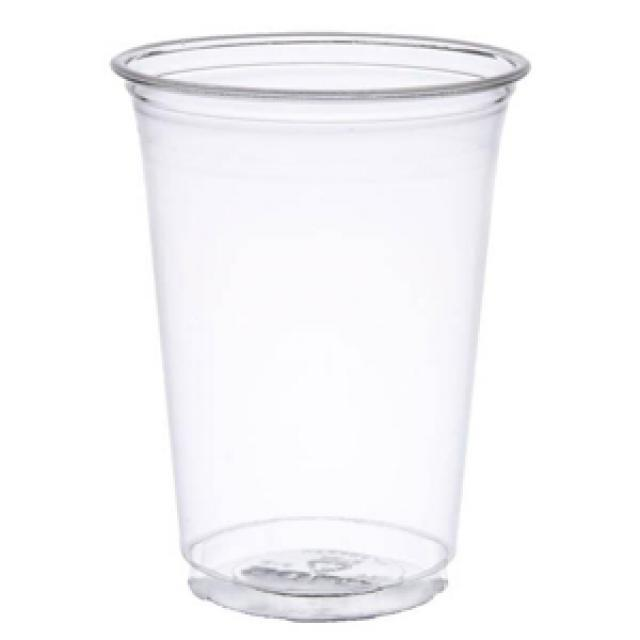plastic cup: (107, 24, 533, 627)
